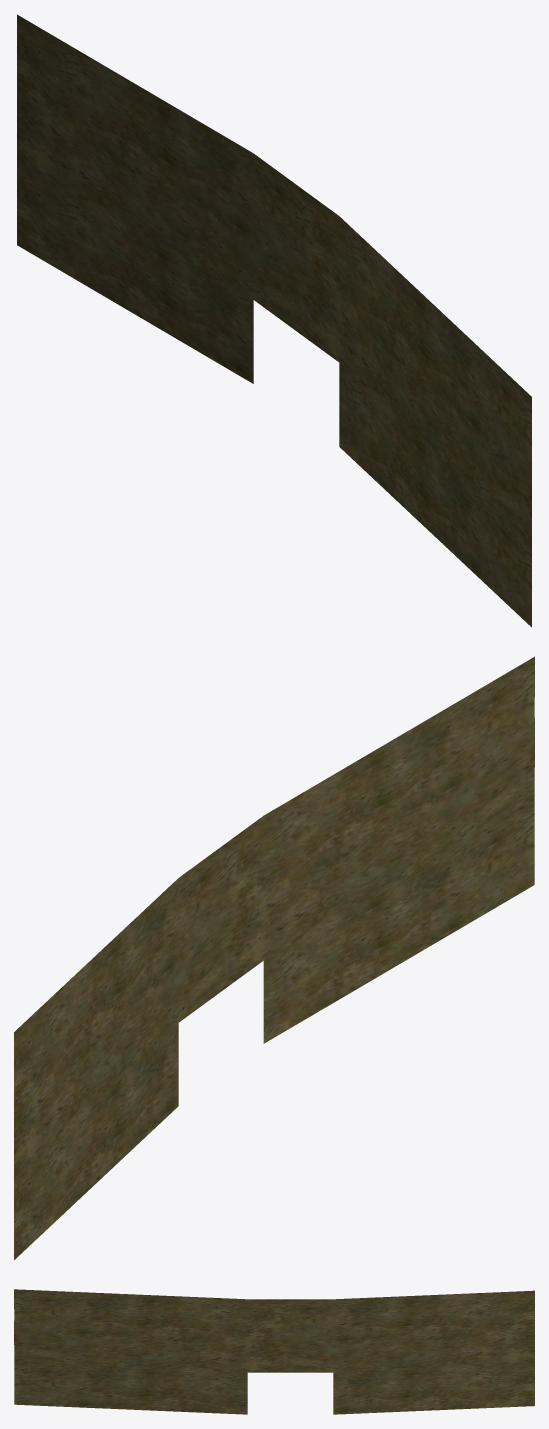
Rendered from CH09_SMAUG_PLAYSURFACE_LAIR127.fbx.
3 views of the same model, one above another, from view 1: azimuth 30°, elevation 25°; view 2: azimuth 150°, elevation 25°; view 3: azimuth 270°, elevation 25° (orthographic). The views are drawn at different scales.
Parts seen in each view (by area): view 1: CH09_SMAUG_PLAYSURFACE_LAIR127; view 2: CH09_SMAUG_PLAYSURFACE_LAIR127; view 3: CH09_SMAUG_PLAYSURFACE_LAIR127.
Part boxes in pixels (x1,y1,x2,y2): CH09_SMAUG_PLAYSURFACE_LAIR127: (17,14,531,627); CH09_SMAUG_PLAYSURFACE_LAIR127: (14,656,534,1259); CH09_SMAUG_PLAYSURFACE_LAIR127: (14,1289,534,1414).
Bounding box in the file's own units: 5980 × 32311 × 132206.
Materials: 1 (1 with a texture image).
